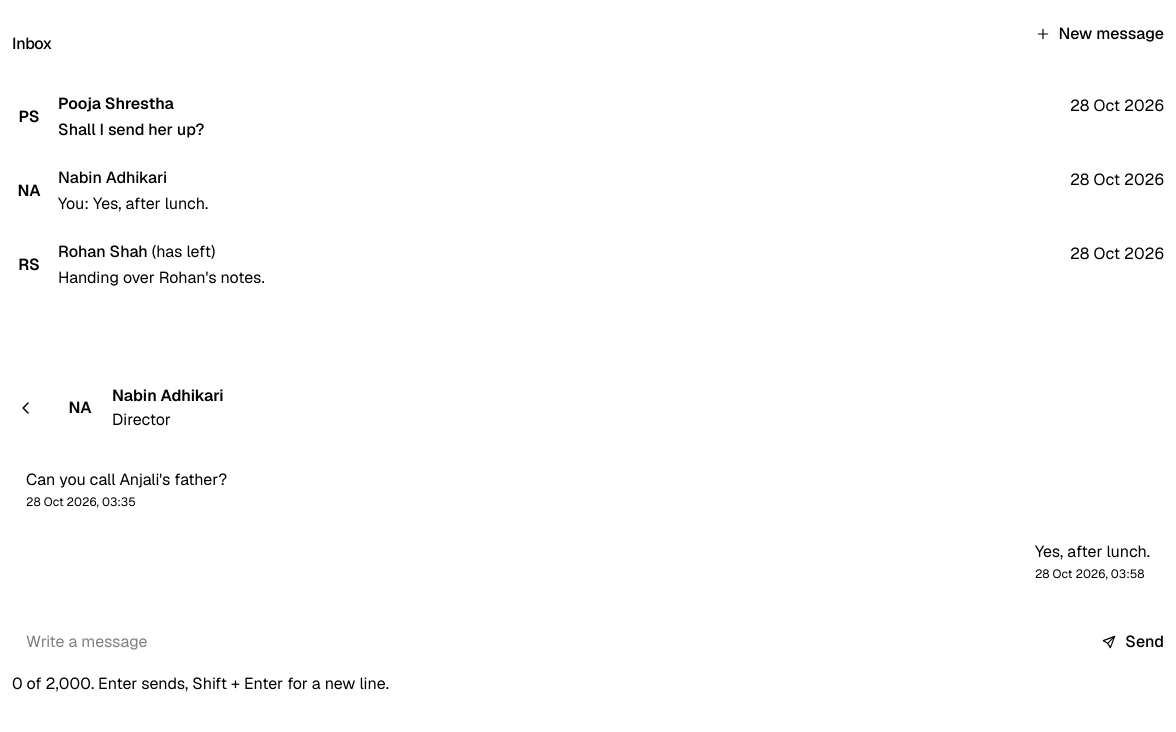
Scenario: Writing › sends on Enter, shows the message and empties the box
Type "On my way" into the text box named "Message to Nabin Adhikari".
click(552, 642); type("On my way")  # box [12, 620, 1091, 664]
Then press Enter
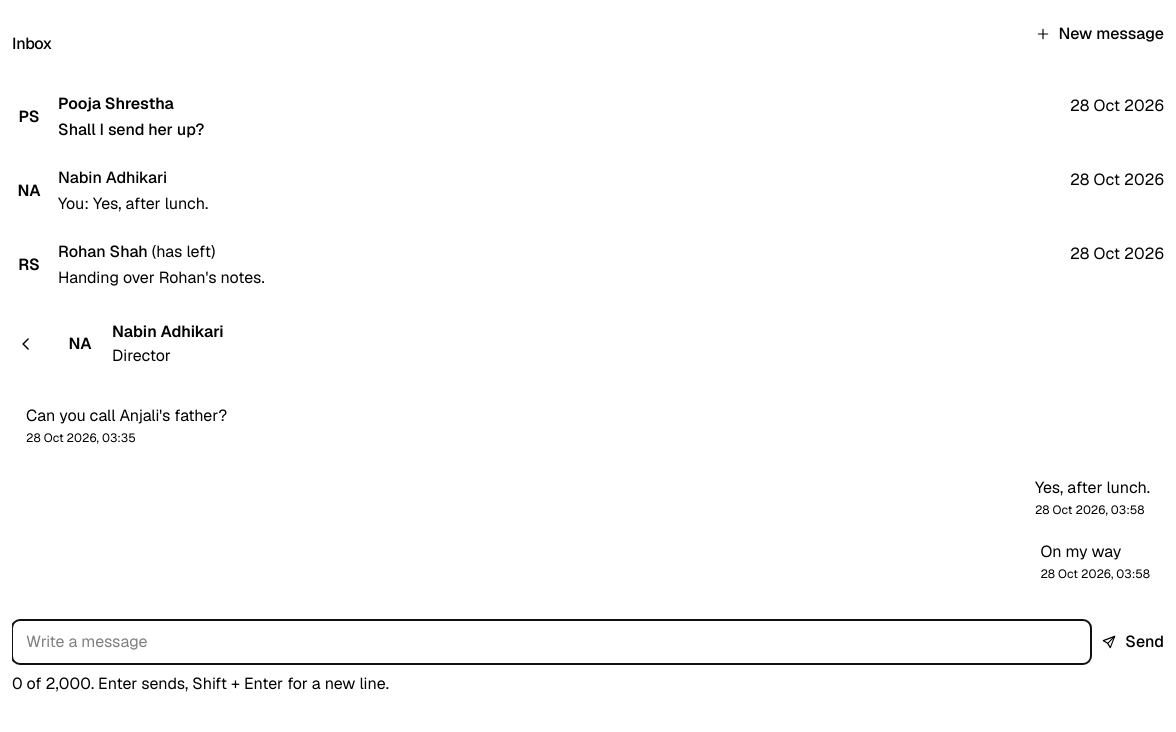
Check: the text "On my way" is shown, box [1040, 541, 1121, 562]
